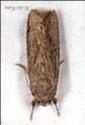army worm adult: (17, 10, 66, 122)
